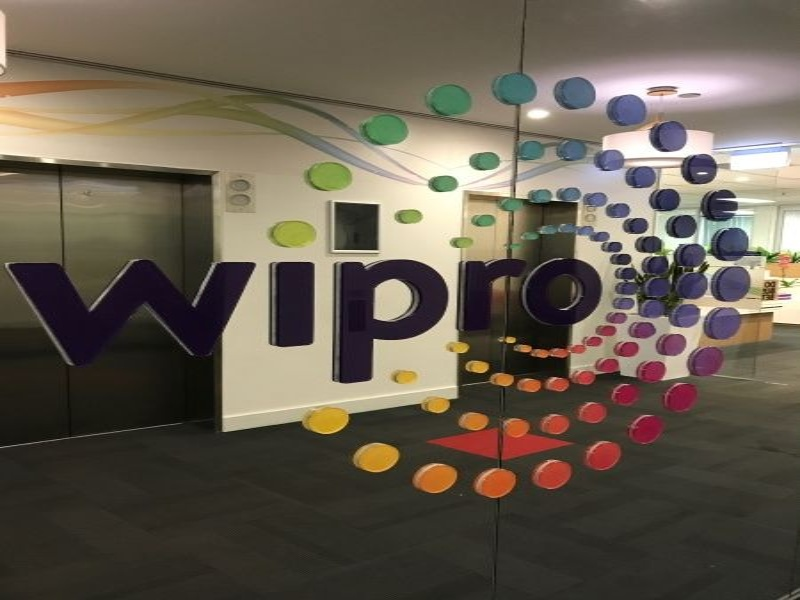wipro: (4, 58, 772, 528)
